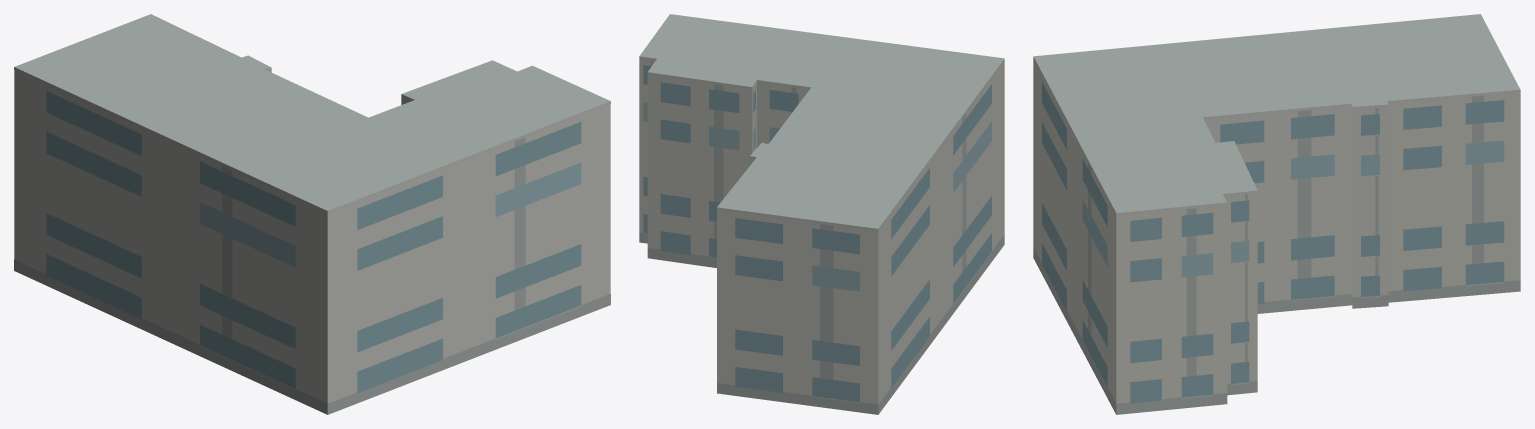
The model's file is survey-upis-32628244.glb.
3 renders of one model, left to right at view 1: azimuth 30°, elevation 25°; view 2: azimuth 150°, elevation 25°; view 3: azimuth 270°, elevation 25°, orthographic. The views are drawn at different scales.
Visible parts, largest first — view 1: survey-upis-32628244.tmp; view 2: survey-upis-32628244.tmp; view 3: survey-upis-32628244.tmp.
Part boxes in pixels (left/top/right/bottom): survey-upis-32628244.tmp: left=14, top=14, right=610, bottom=414; survey-upis-32628244.tmp: left=639, top=14, right=1004, bottom=414; survey-upis-32628244.tmp: left=1033, top=14, right=1520, bottom=414.
Bounding box in the file's own units: 38.12 × 18 × 39.4.
